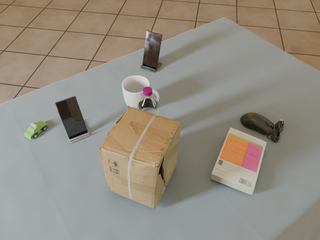book: (210, 128, 266, 195)
bottle: (137, 86, 159, 115)
box: (99, 106, 181, 208)
cup: (122, 76, 159, 108)
mouse: (241, 113, 284, 142)
phone: (55, 96, 88, 139), (143, 31, 162, 69)
toy_car: (24, 121, 48, 140)
